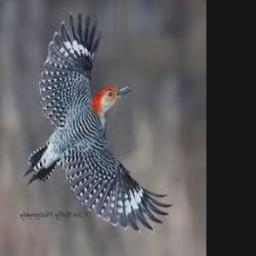Woodpecker: (24, 11, 172, 233)
